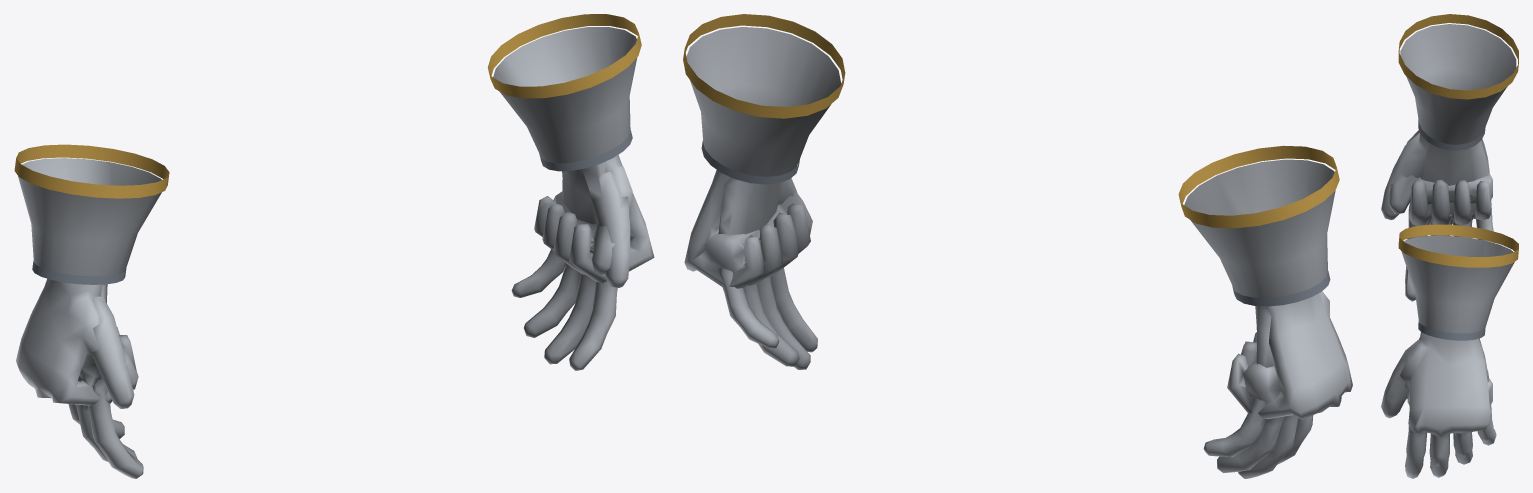
File: g_royalplate_f.glb
3 renders of one model, left to right at view 1: azimuth 30°, elevation 25°; view 2: azimuth 150°, elevation 25°; view 3: azimuth 270°, elevation 25°, orthographic. The views are drawn at different scales.
Visible parts, largest first — view 1: ArmL_Gauntlet, ArmR_Gauntlet, ArmL_HandOpen, ArmR_Hand, ArmL_Hand, ArmR_HandOpen; view 2: ArmL_Gauntlet, ArmR_Gauntlet, ArmR_Hand, ArmL_HandOpen, ArmL_Hand, ArmR_HandOpen; view 3: ArmR_Gauntlet, ArmL_Gauntlet, ArmL_Hand, ArmR_HandOpen, ArmR_Hand, ArmL_HandOpen.
Boxes of the visible parts, <box> form: ArmL_Gauntlet: <box>487,14,641,171</box>; ArmR_Gauntlet: <box>14,144,169,284</box>; ArmL_HandOpen: <box>511,161,630,370</box>; ArmR_Hand: <box>16,279,138,405</box>; ArmL_Hand: <box>534,155,654,283</box>; ArmR_HandOpen: <box>68,284,143,478</box>; ArmL_Gauntlet: <box>683,14,845,184</box>; ArmR_Gauntlet: <box>1178,145,1339,306</box>; ArmR_Hand: <box>1227,291,1352,419</box>; ArmL_HandOpen: <box>718,177,817,369</box>; ArmL_Hand: <box>684,170,812,288</box>; ArmR_HandOpen: <box>1203,306,1313,478</box>; ArmR_Gauntlet: <box>1398,14,1518,150</box>; ArmL_Gauntlet: <box>1398,224,1518,340</box>; ArmL_Hand: <box>1400,332,1492,437</box>; ArmR_HandOpen: <box>1381,132,1494,301</box>; ArmR_Hand: <box>1388,130,1492,225</box>; ArmL_HandOpen: <box>1381,332,1496,478</box>.
Size of the model in its own units: 0.5902 by 0.2919 by 0.1415.
